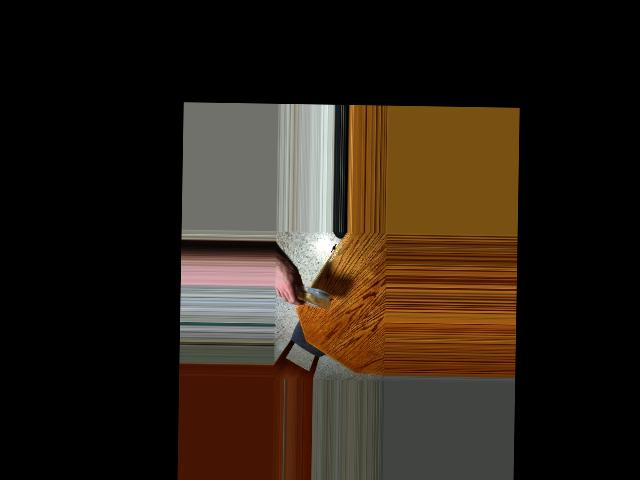cheese: (295, 278, 328, 309)
